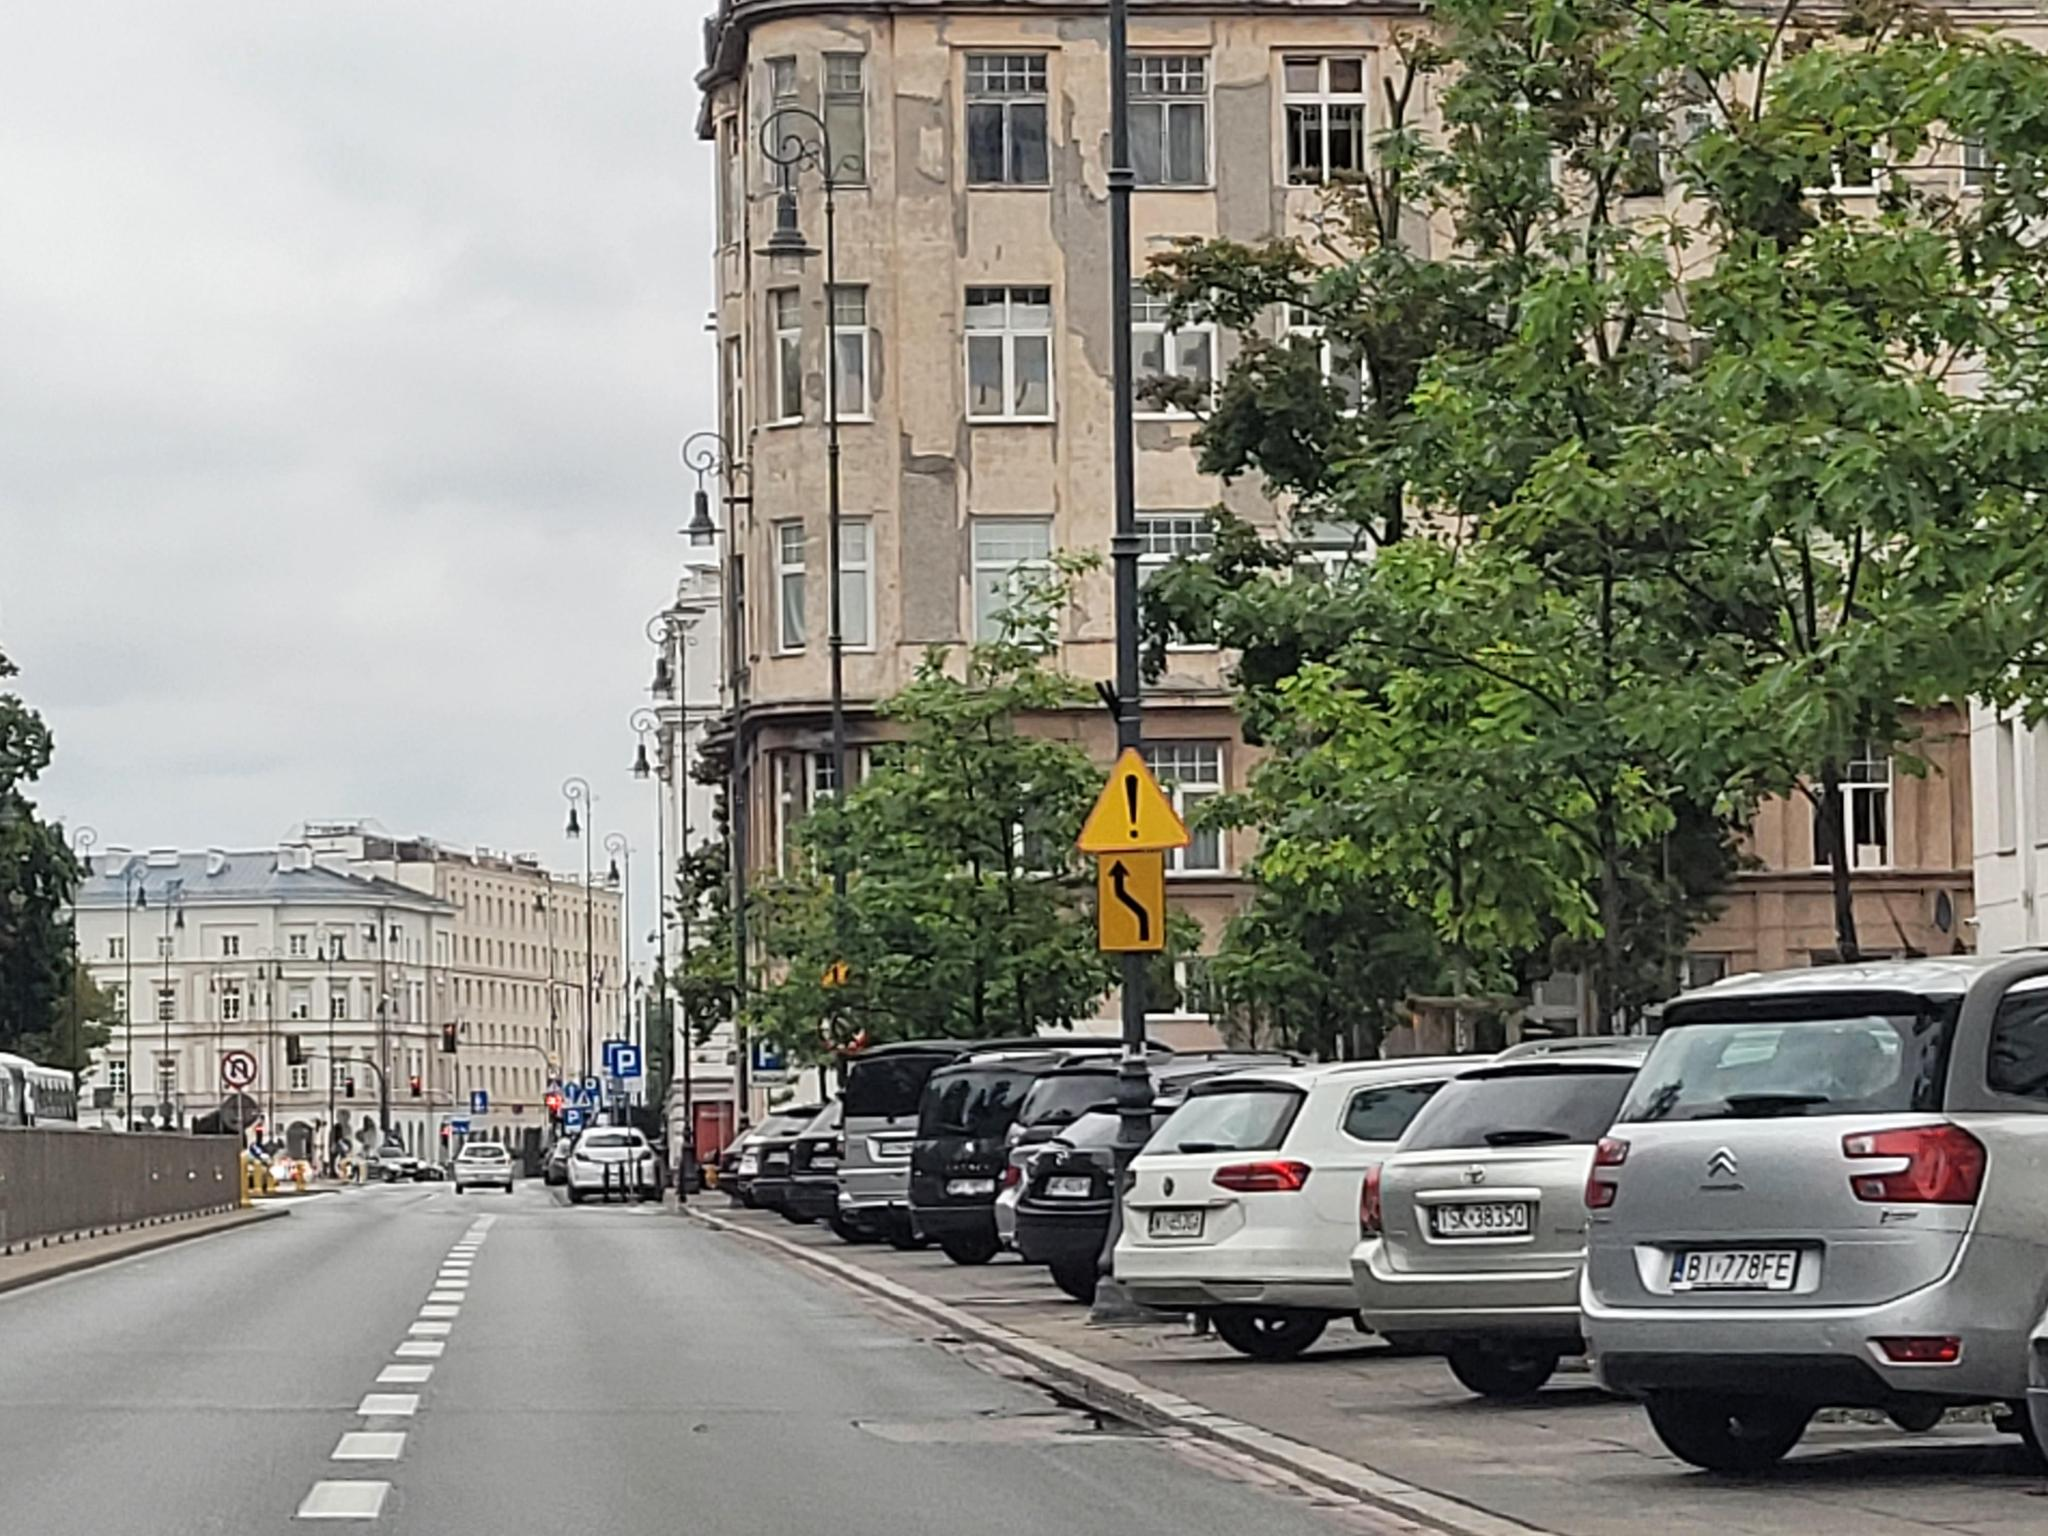information: (753, 1039, 785, 1070), (613, 1047, 640, 1078)
other: (1100, 855, 1166, 950), (753, 1070, 785, 1086)
prohibitory: (221, 1050, 258, 1087)
warning: (1076, 744, 1190, 852)
